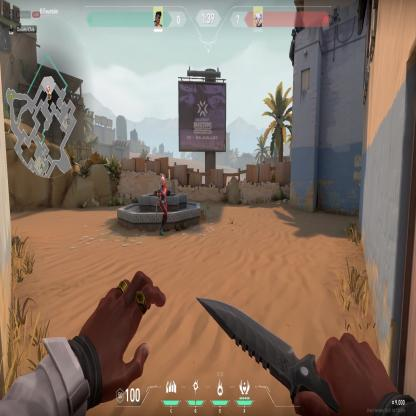enemy: (157, 174, 168, 238)
